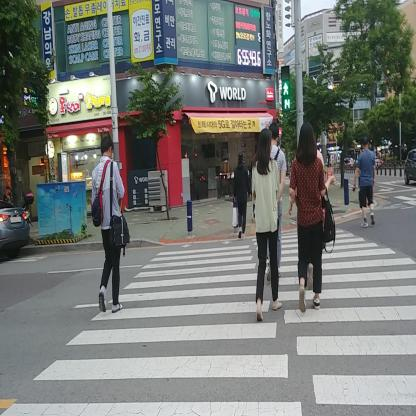Green: (280, 66, 290, 112)
